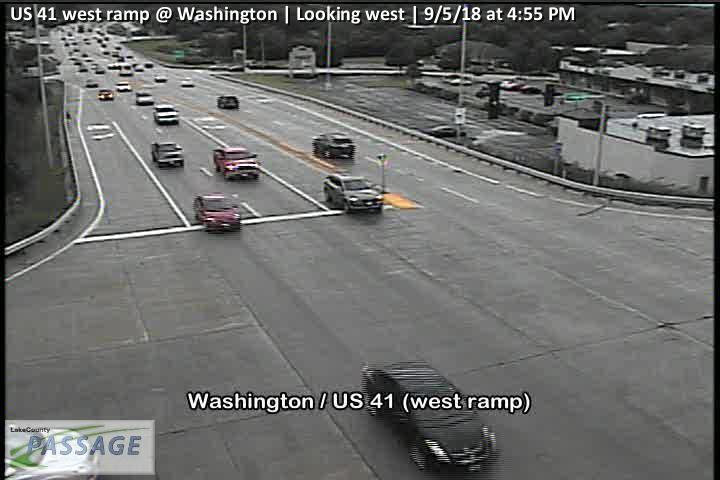Sedan: (359, 360, 498, 479), (323, 172, 385, 211), (191, 194, 241, 230), (213, 145, 260, 181), (312, 132, 357, 160), (149, 141, 184, 169), (150, 104, 179, 123), (216, 95, 240, 108), (135, 90, 154, 103), (113, 80, 131, 91), (95, 89, 114, 99)
